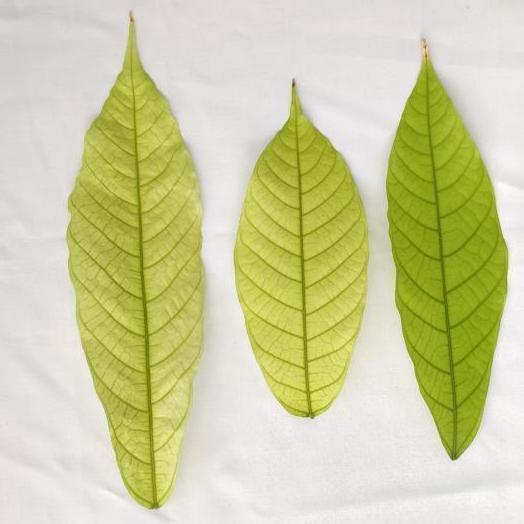Iron: (68, 15, 202, 507), (387, 43, 507, 458), (234, 81, 367, 417)
